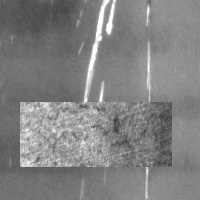crazing: (20, 102, 172, 167)
scratches: (74, 1, 119, 124), (139, 1, 154, 196), (84, 77, 111, 150)
